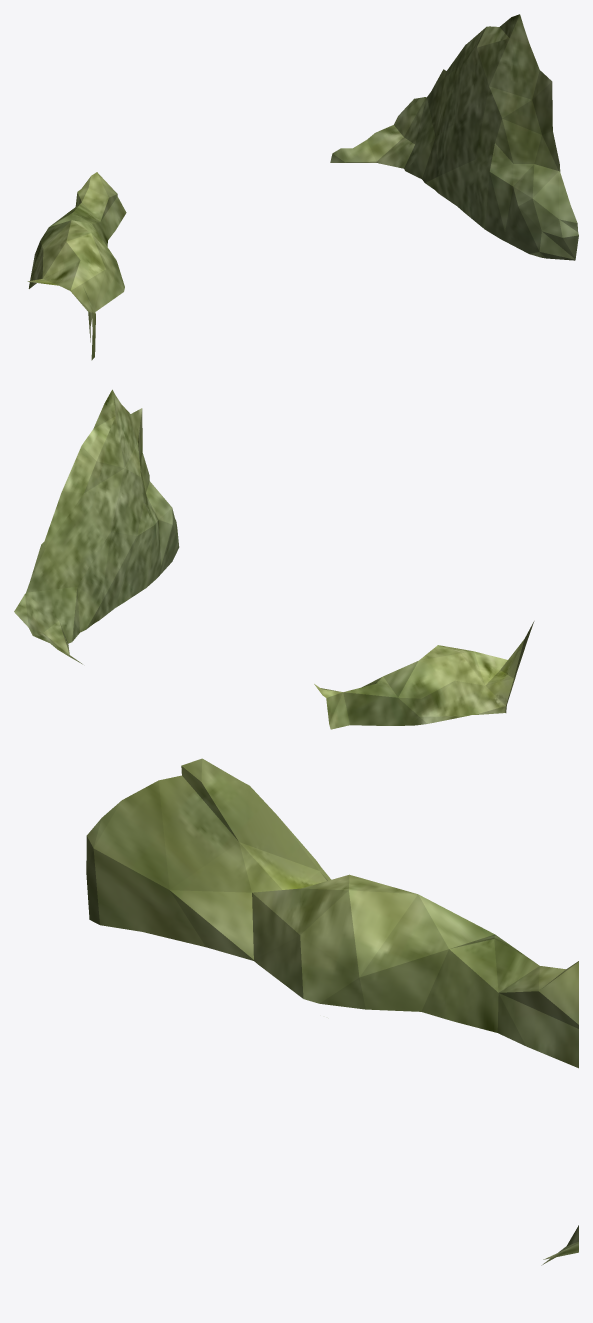
3 views of the same model, one above another, from view 1: azimuth 30°, elevation 25°; view 2: azimuth 150°, elevation 25°; view 3: azimuth 270°, elevation 25° (orthographic). The views are drawn at different scales.
Bounding box in the file's own units: 2.95 × 1.25 × 1.81.
1 material, 1 textured.
